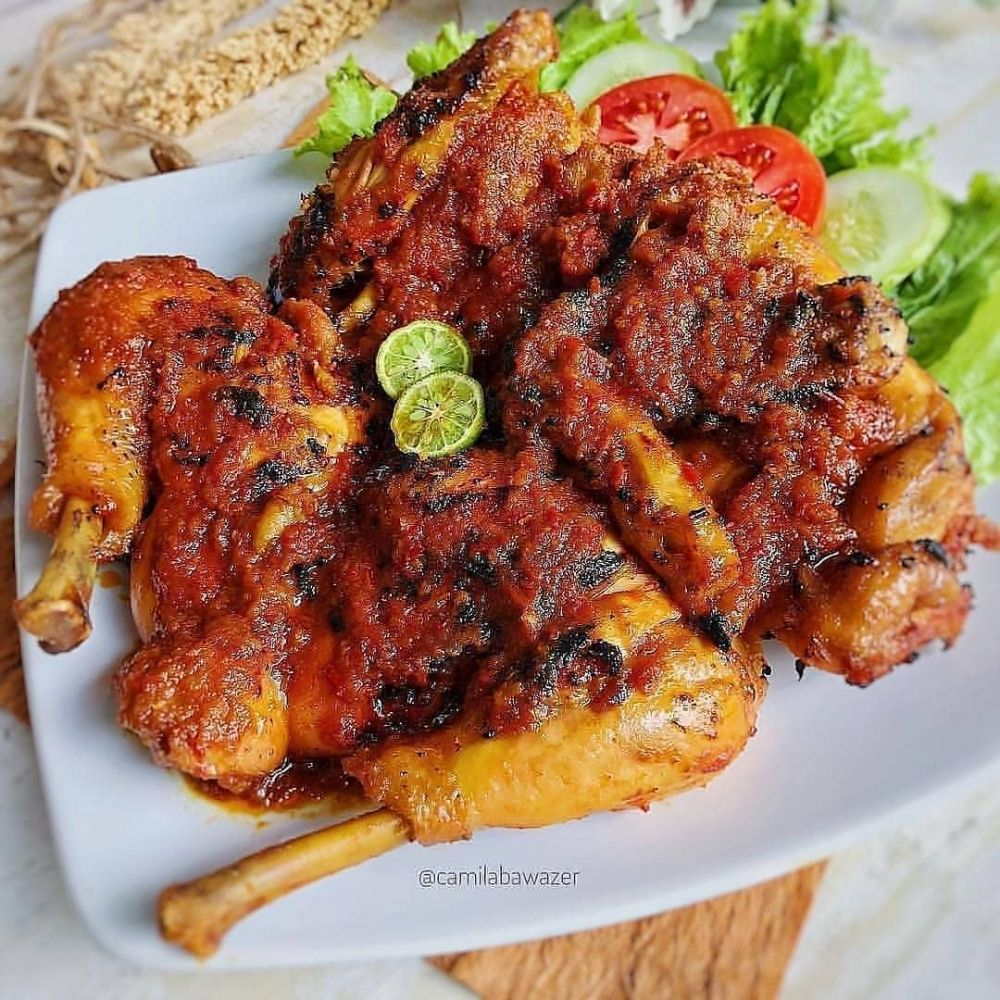Ayam: (30, 71, 974, 980)
